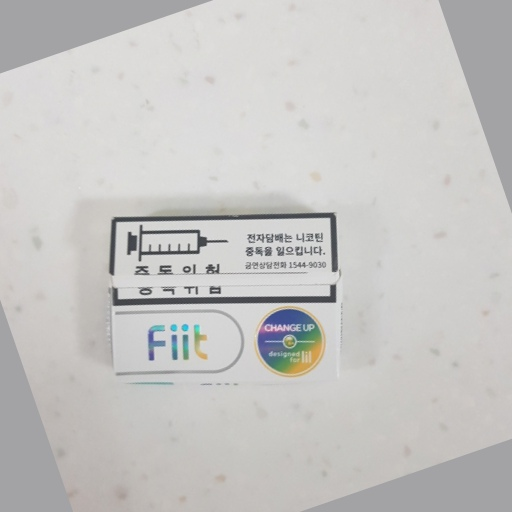Paper_0: (96, 204, 353, 398)
